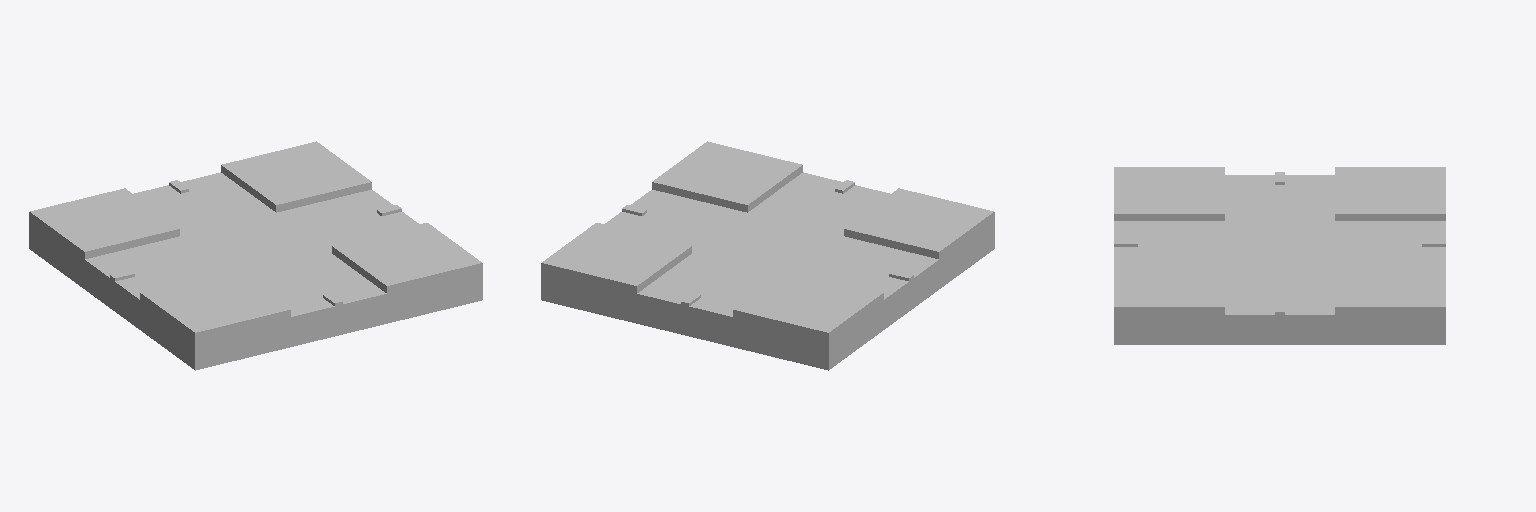
File: Street_4Way_2.obj
3 renders of one model, left to right at view 1: azimuth 30°, elevation 25°; view 2: azimuth 150°, elevation 25°; view 3: azimuth 270°, elevation 25°, orthographic.
Visible parts, largest first — view 1: Street_4Way_2_Cube.016; view 2: Street_4Way_2_Cube.016; view 3: Street_4Way_2_Cube.016.
Boxes of the visible parts, x1,y1,x2,y2 form: Street_4Way_2_Cube.016: [29, 141, 482, 370]; Street_4Way_2_Cube.016: [541, 141, 994, 370]; Street_4Way_2_Cube.016: [1114, 167, 1445, 344].
Bounding box in the file's own units: 2 × 0.25 × 2.